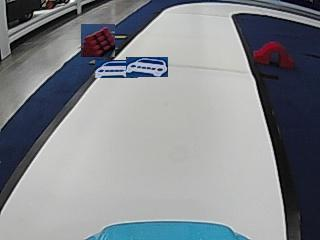bridge: (254, 41, 294, 69)
